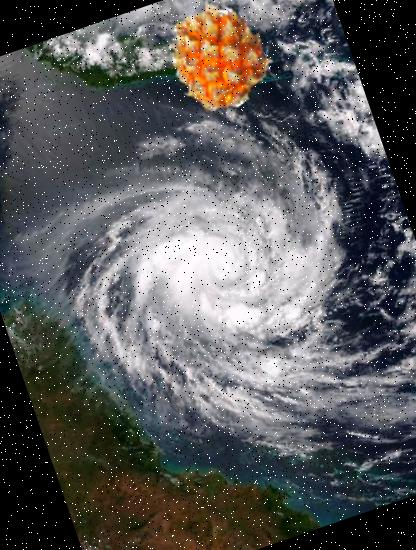Pineapple: (149, 0, 284, 123)
